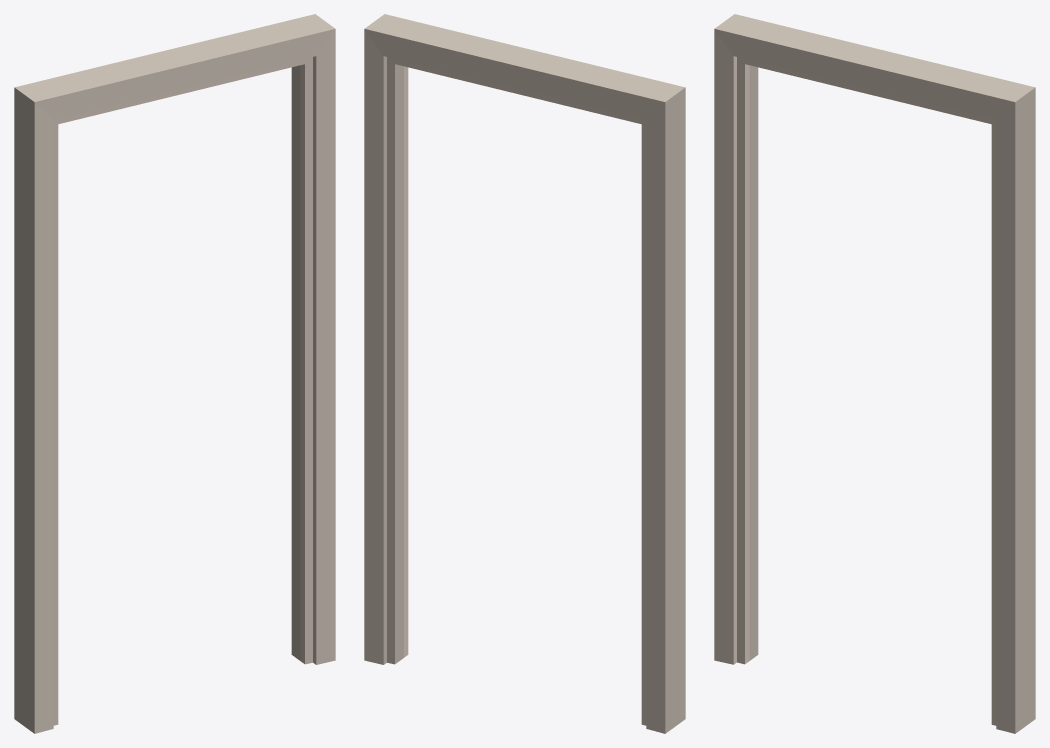
File: BasePorta.fbx
3 renders of one model, left to right at view 1: azimuth 30°, elevation 25°; view 2: azimuth 150°, elevation 25°; view 3: azimuth 330°, elevation 25°, orthographic.
Visible parts, largest first — view 1: DoorBase; view 2: DoorBase; view 3: DoorBase.
Boxes of the visible parts, box(x1,y1,x2,y2) form: DoorBase: box(14, 14, 335, 733); DoorBase: box(364, 14, 685, 733); DoorBase: box(714, 14, 1035, 733).
Size of the model in its own units: 252 by 505 by 29.31.
